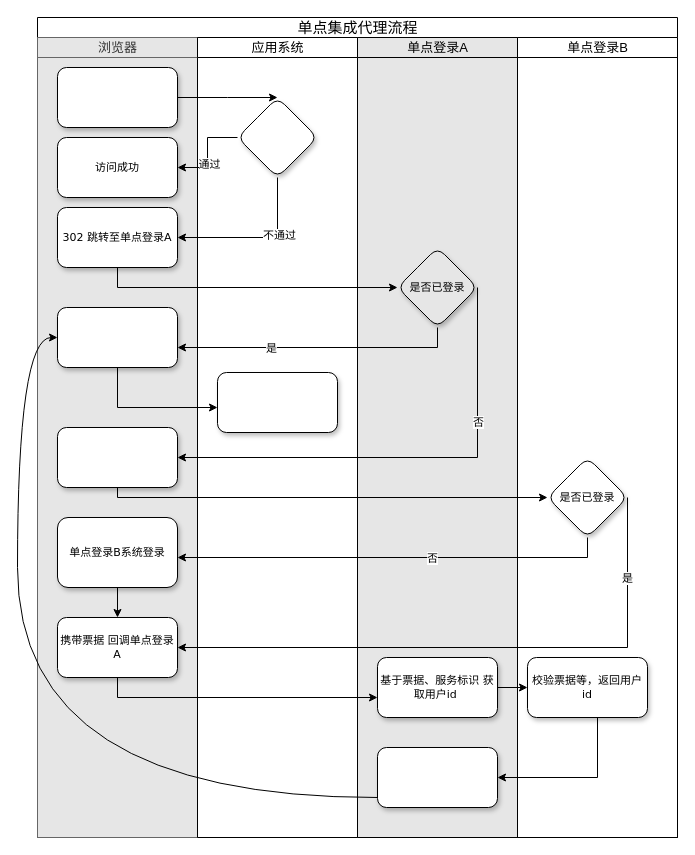
This 695x855 diagram has some shape labels left out. Each missing label, with the centre of its shape:
"http://www.app.com" goes at [118,98].
"基于用户标识、会话标识回调" goes at [438,778].
"携带临时码 回调应用系统" goes at [118,338].
"携带服务标识、 会话标识 ，302跳转至单点登录B" goes at [118,458].
"本地会话创建" goes at [278,404].
"鉴权" goes at [278,138].
